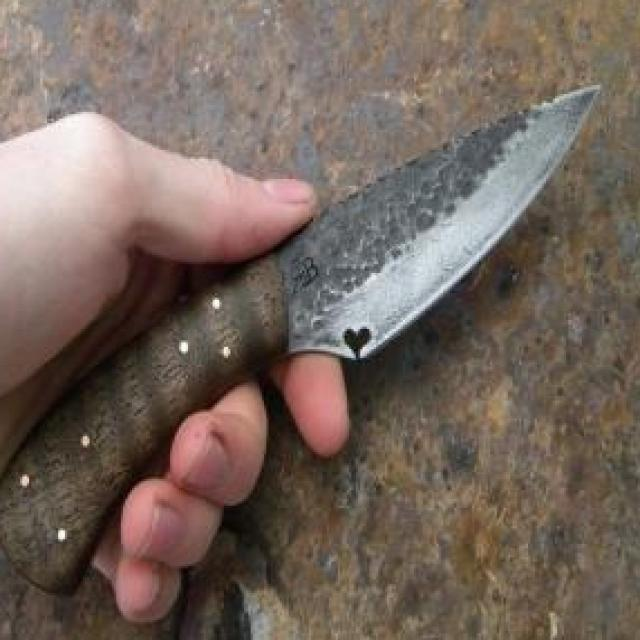knife: (104, 72, 620, 624)
